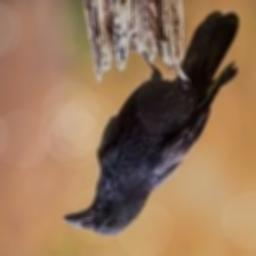Crow: (63, 11, 240, 235)
